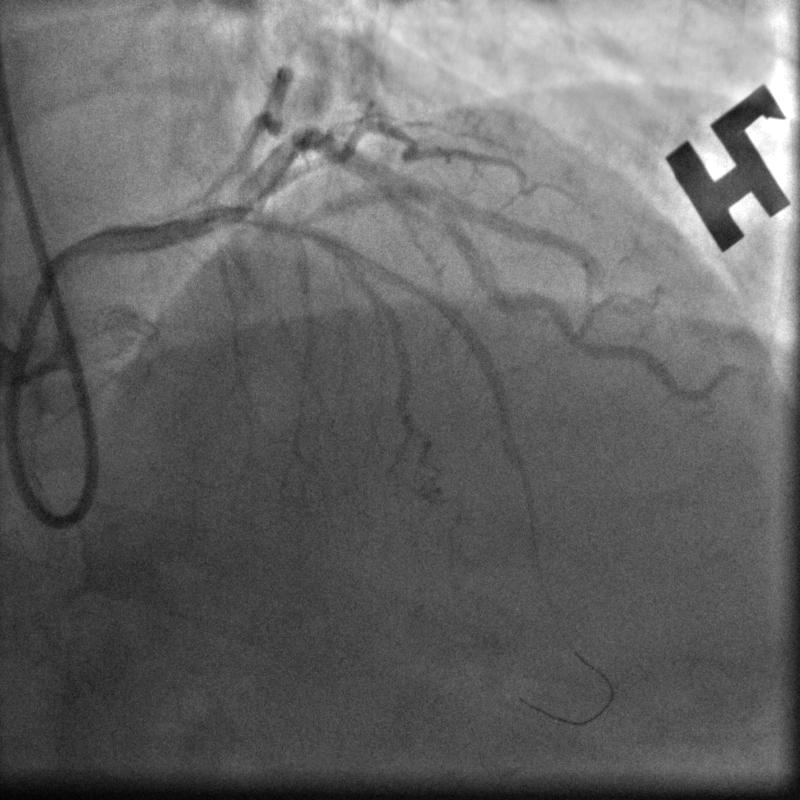Stenosis: (400, 171, 447, 222)
